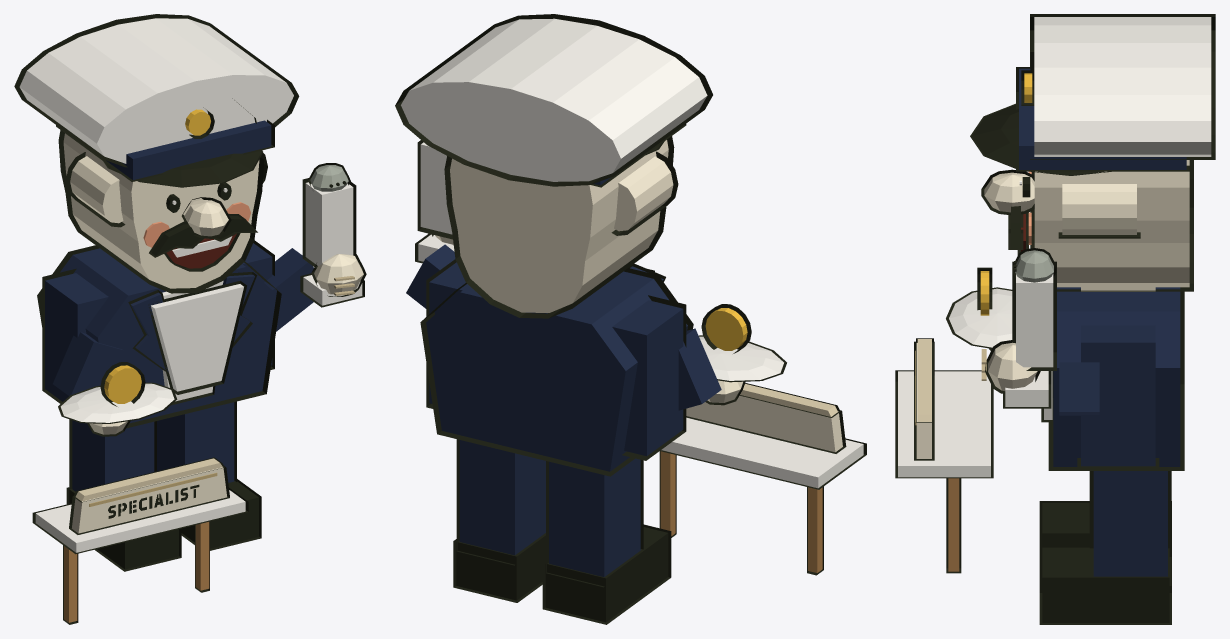
3 renders of one model, left to right at view 1: azimuth 30°, elevation 25°; view 2: azimuth 150°, elevation 25°; view 3: azimuth 270°, elevation 25°, orthographic. The views are drawn at different scales.
Parts seen in each view (by area): view 1: Link Marine; view 2: Link Marine; view 3: Link Marine.
Part boxes in pixels (box(x1,y1,x2,y2)): Link Marine: box(14, 14, 366, 624); Link Marine: box(395, 14, 866, 624); Link Marine: box(895, 14, 1215, 624).
Bounding box in the file's own units: 0.722 × 0.9729 × 0.5155.
